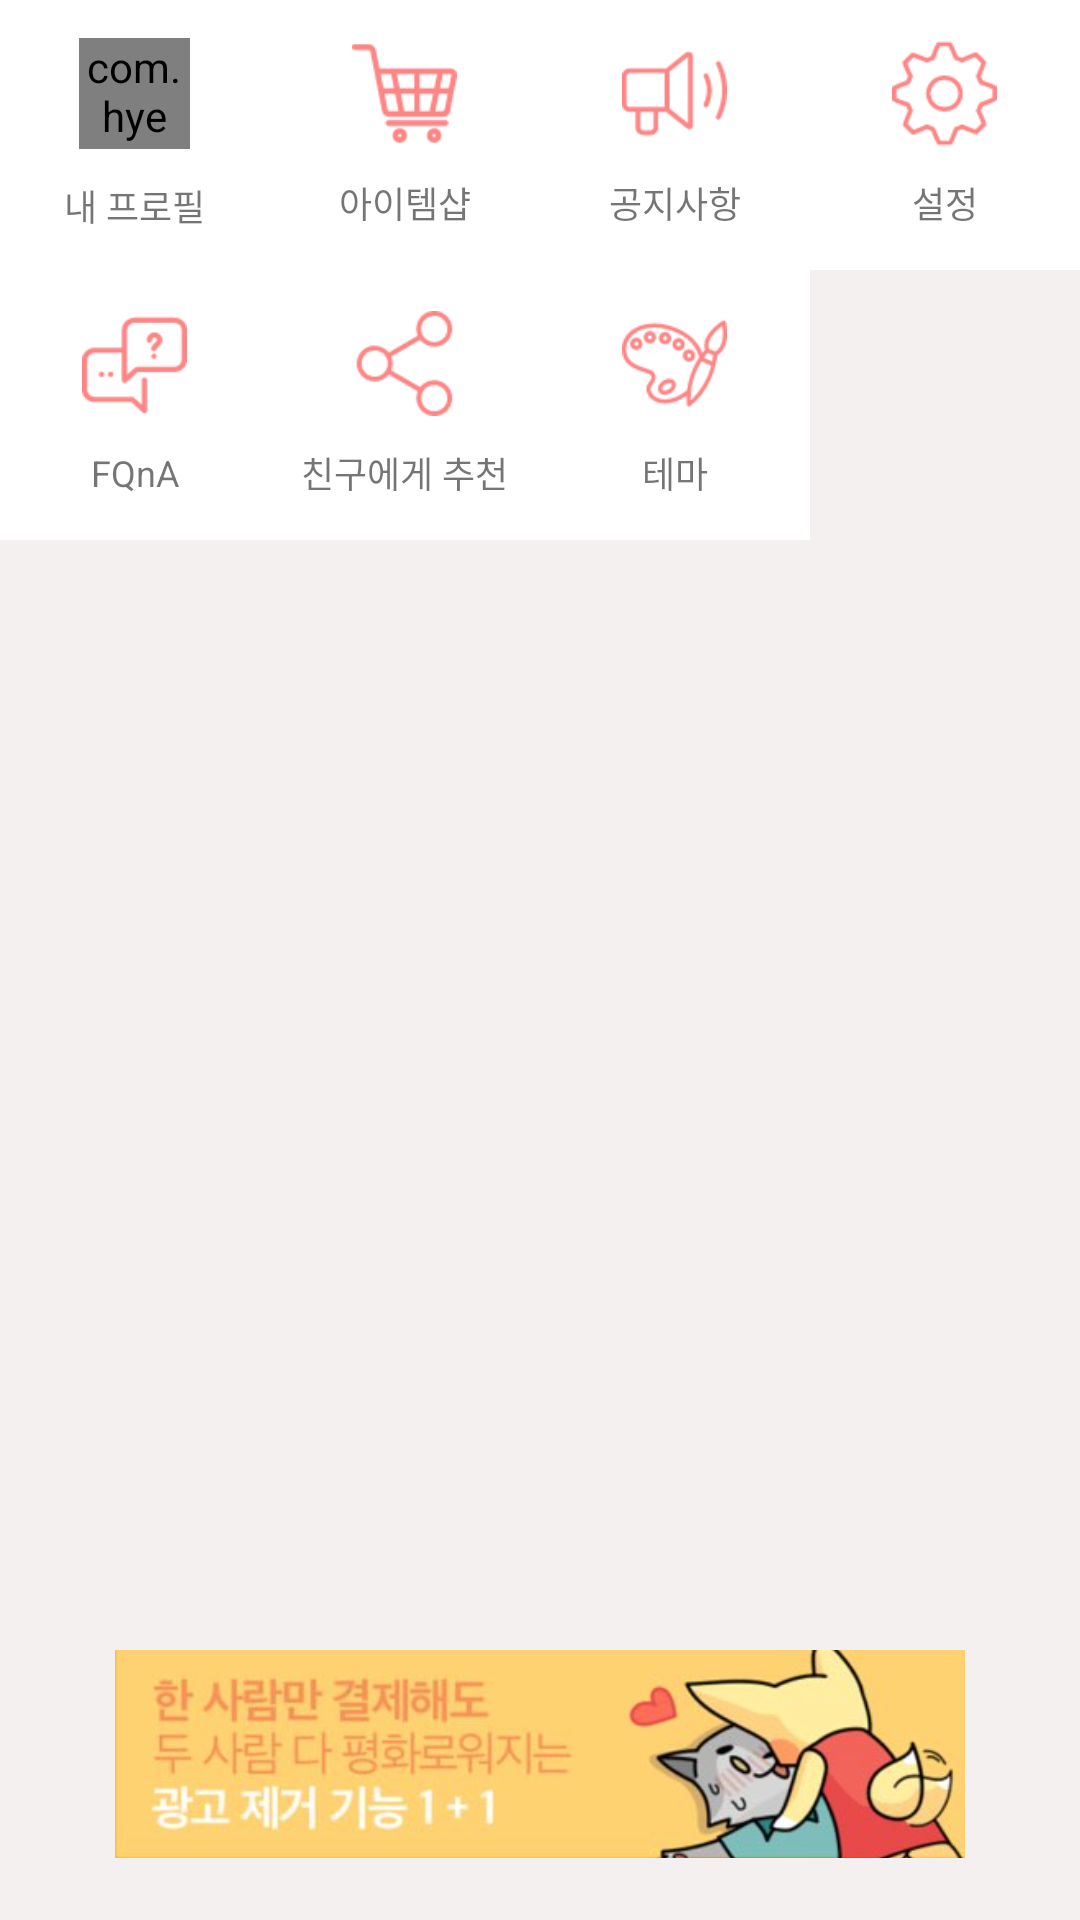

Screen size 1080*1920. Icon name, then its box in pixels as (x1=x1, y1=y1, x2=x2, y2=y2):
loud: (x1=622, y1=51, x2=727, y2=136)
